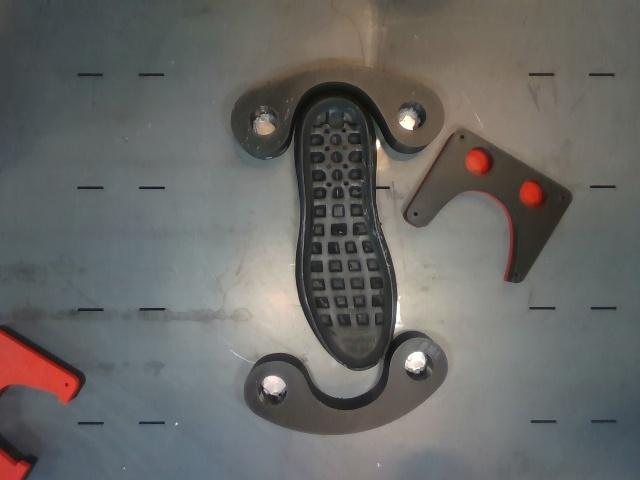shoes: (302, 98, 393, 370)
